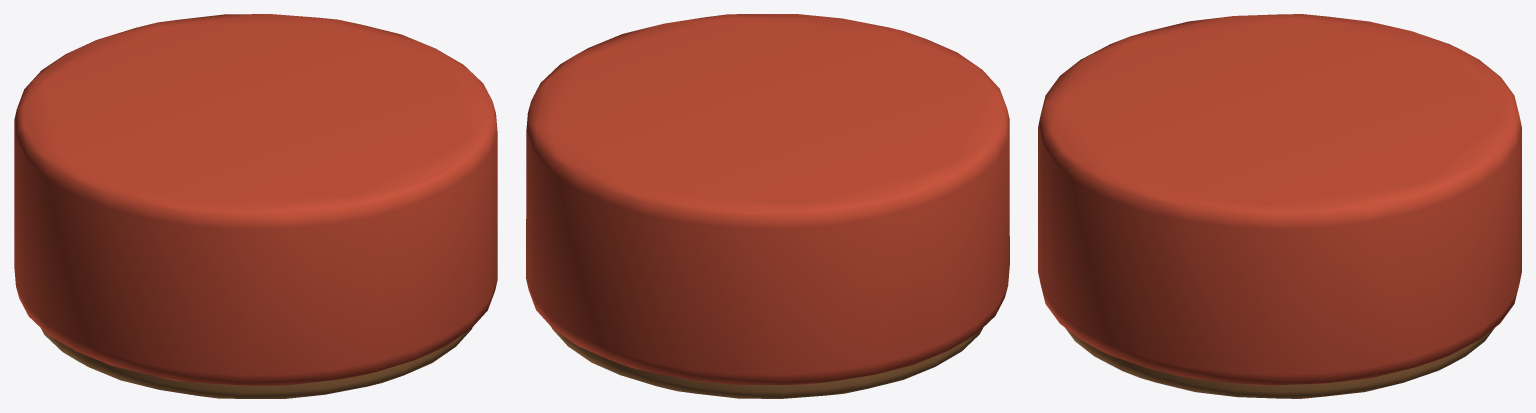
File: stool_04_leather_red.fbx
3 renders of one model, left to right at view 1: azimuth 30°, elevation 25°; view 2: azimuth 150°, elevation 25°; view 3: azimuth 270°, elevation 25°, orthographic.
Parts seen in each view (by area): view 1: stool_04_leather_red; view 2: stool_04_leather_red; view 3: stool_04_leather_red.
Part boxes in pixels (box(x1,y1,x2,y2)): stool_04_leather_red: box(14, 14, 497, 398); stool_04_leather_red: box(526, 14, 1009, 398); stool_04_leather_red: box(1038, 14, 1521, 398).
Size of the model in its own units: 86.76 by 38.97 by 86.76.
2 materials, 2 textured.
